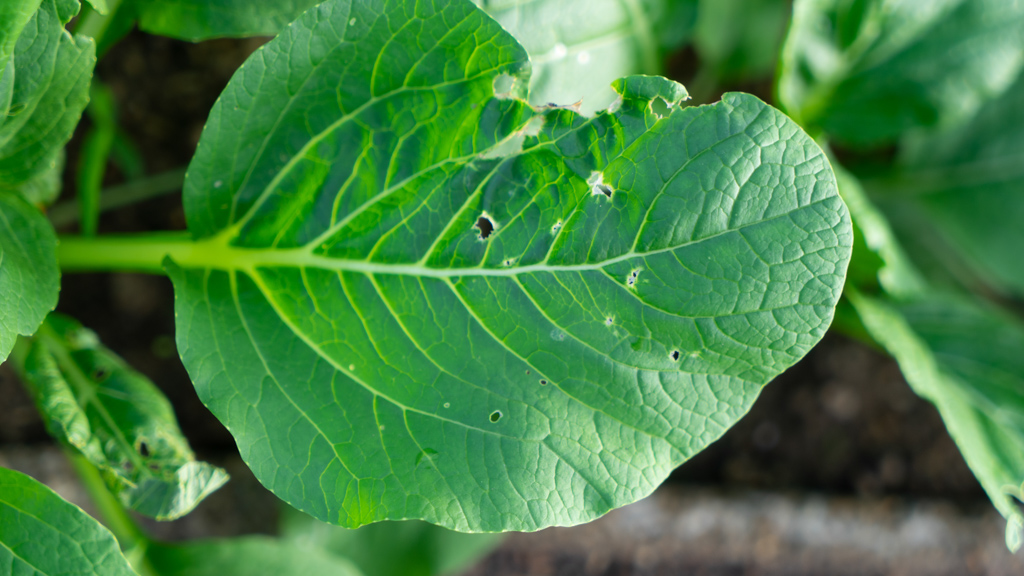frog-eye leafspot: (459, 193, 522, 280), (569, 163, 619, 207), (474, 395, 519, 441), (599, 256, 649, 295), (666, 336, 706, 369), (581, 311, 627, 331), (546, 216, 567, 239)
